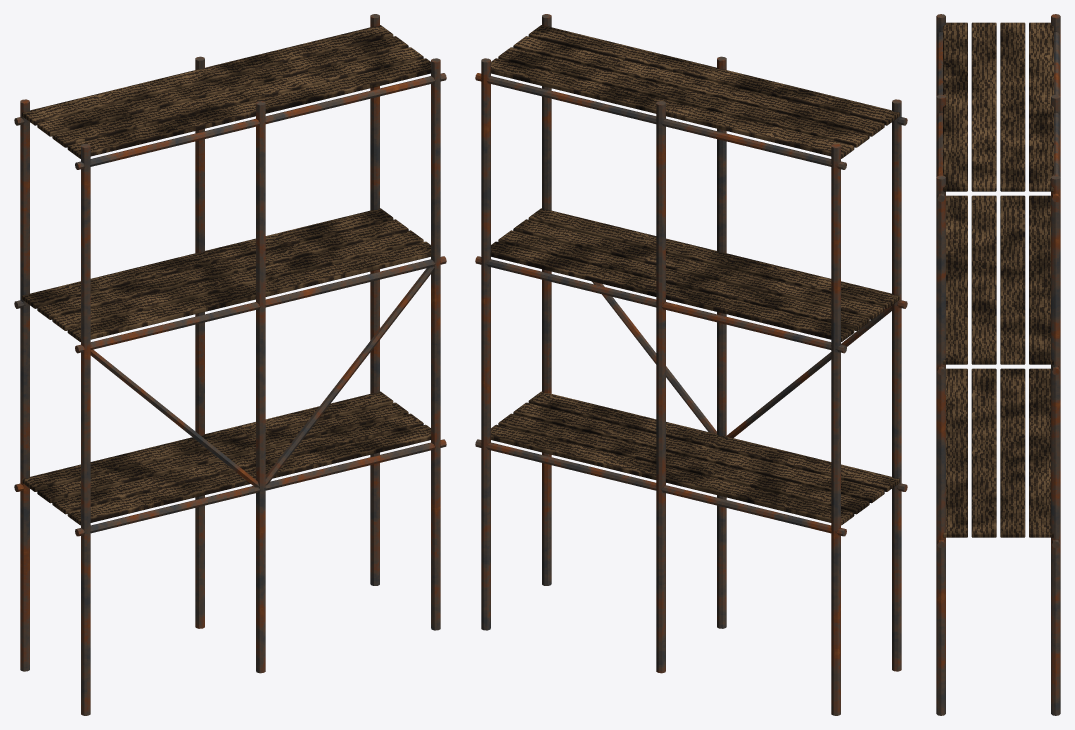
File: city_scaffold.glb
3 views of the same model, side by side, from view 1: azimuth 30°, elevation 25°; view 2: azimuth 150°, elevation 25°; view 3: azimuth 270°, elevation 25° (orthographic). The views are drawn at different scales.
Visible parts, largest first — view 1: city_scaffold; view 2: city_scaffold; view 3: city_scaffold.
Part boxes in pixels (<box>): city_scaffold: <box>14,14,446,715</box>; city_scaffold: <box>475,14,907,715</box>; city_scaffold: <box>936,14,1060,715</box>.
Size of the model in its own units: 4.2 by 6.2 by 1.3.
Materials: 2 (2 with a texture image).
